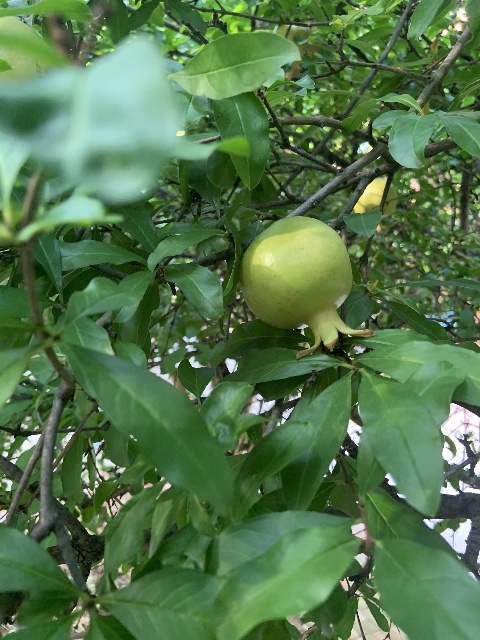mid-growth: (240, 217, 373, 358), (353, 177, 397, 234)
